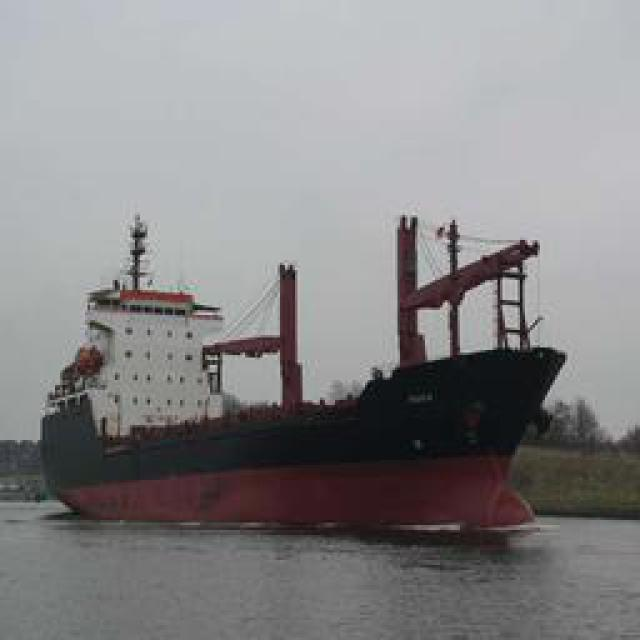Ship: (37, 182, 570, 532)
